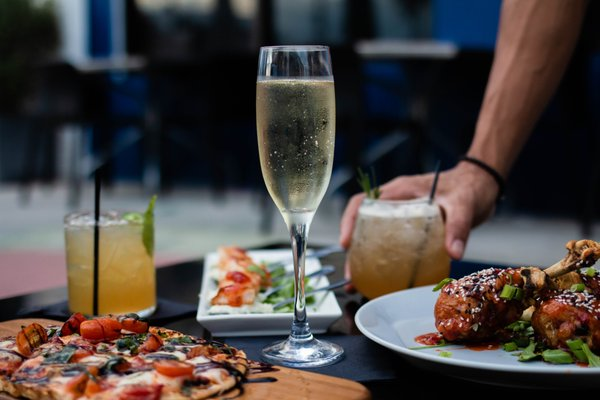pizza: (346, 187, 450, 299), (64, 202, 158, 319)
